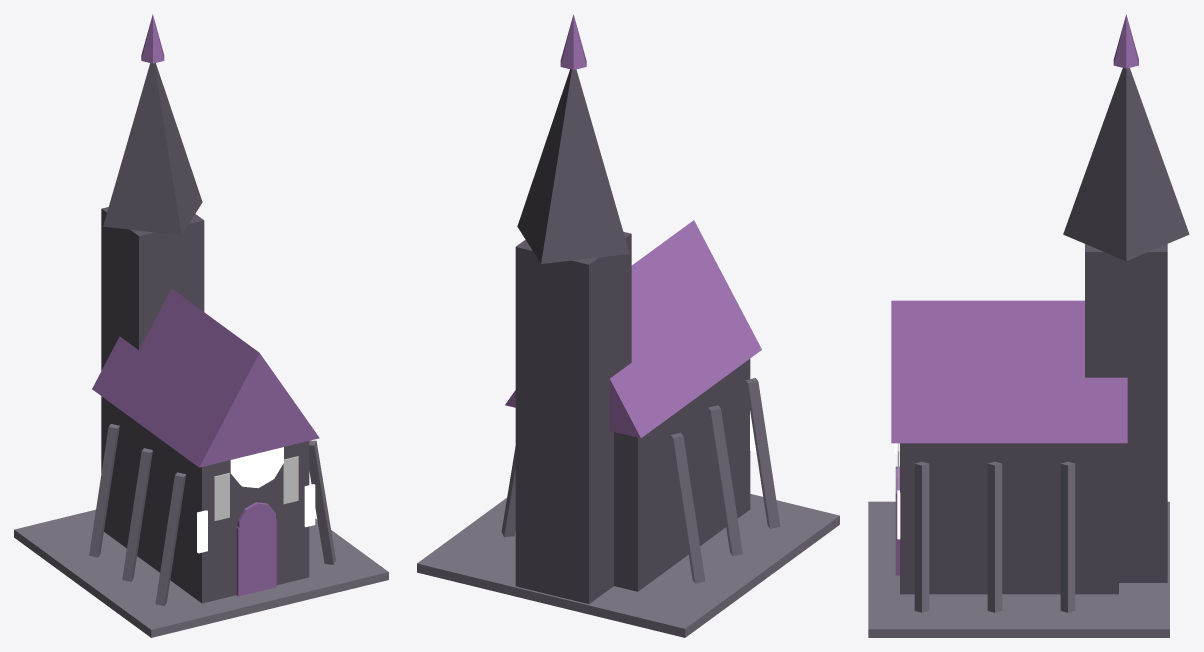
3 renders of one model, left to right at view 1: azimuth 30°, elevation 25°; view 2: azimuth 150°, elevation 25°; view 3: azimuth 270°, elevation 25°, orthographic. The views are drawn at different scales.
Parts seen in each view (by area): view 1: body; view 2: body; view 3: body.
Part boxes in pixels (<box>): body: <box>14,14,388,637</box>; body: <box>417,14,839,637</box>; body: <box>868,14,1189,637</box>.
Bounding box in the file's own units: 12.4 × 25.4 × 13.2.
